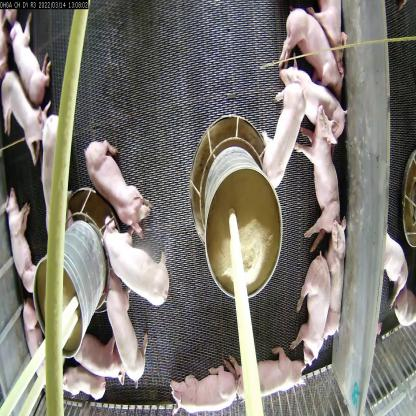Pig: (258, 84, 316, 202), (81, 128, 148, 230), (278, 5, 348, 91), (280, 63, 349, 150), (107, 213, 171, 306), (232, 336, 306, 407), (30, 113, 71, 227), (304, 115, 342, 236), (166, 360, 246, 416), (0, 176, 40, 286), (295, 260, 332, 376), (99, 280, 143, 375), (11, 17, 55, 108), (66, 330, 126, 386), (53, 358, 110, 414), (0, 66, 36, 137), (327, 226, 346, 342), (22, 302, 48, 375)
